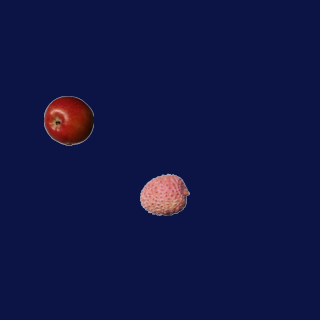Apple Braeburn: (43, 95, 93, 145)
Lychee: (139, 169, 189, 219)
